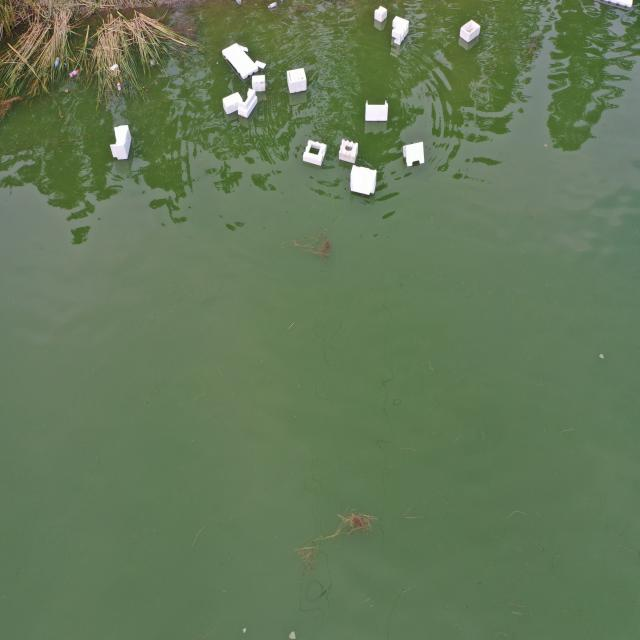Plastic Bottle: (69, 69, 80, 78), (268, 1, 277, 9), (55, 56, 60, 68), (117, 81, 121, 91)
Plastic Waste: (222, 43, 259, 80), (350, 164, 377, 196), (110, 124, 131, 160), (303, 139, 327, 166), (238, 88, 258, 118), (286, 68, 307, 94), (403, 141, 424, 167), (459, 19, 481, 43), (392, 15, 409, 46), (365, 100, 388, 122), (222, 92, 243, 115), (339, 139, 358, 164), (374, 5, 388, 22), (252, 74, 266, 91), (254, 60, 266, 70), (110, 64, 118, 70)
Plastic bag: (236, 0, 242, 5)
